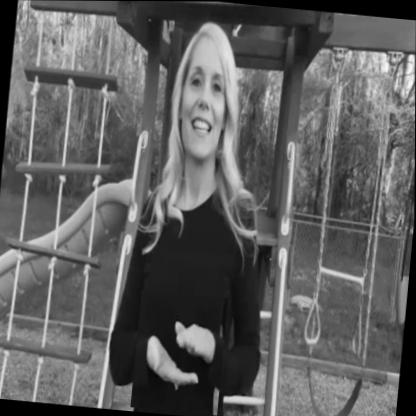ExcuseMe: (131, 290, 229, 415)
